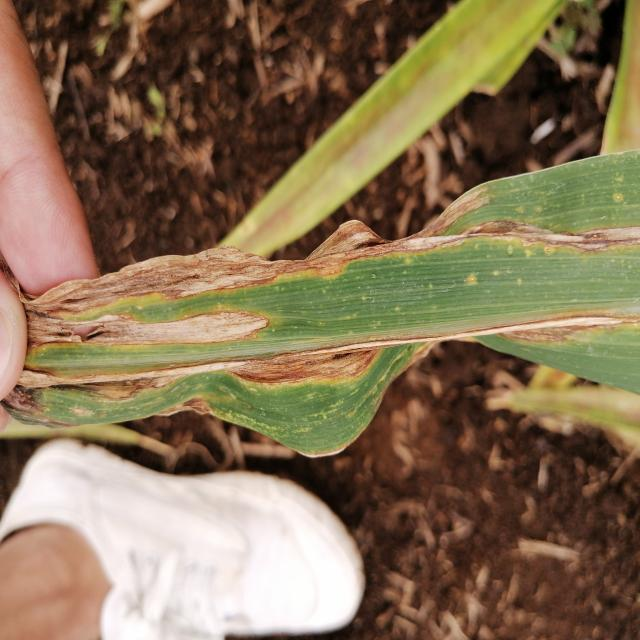Corn_Leaf_Blight: (109, 155, 640, 463)
